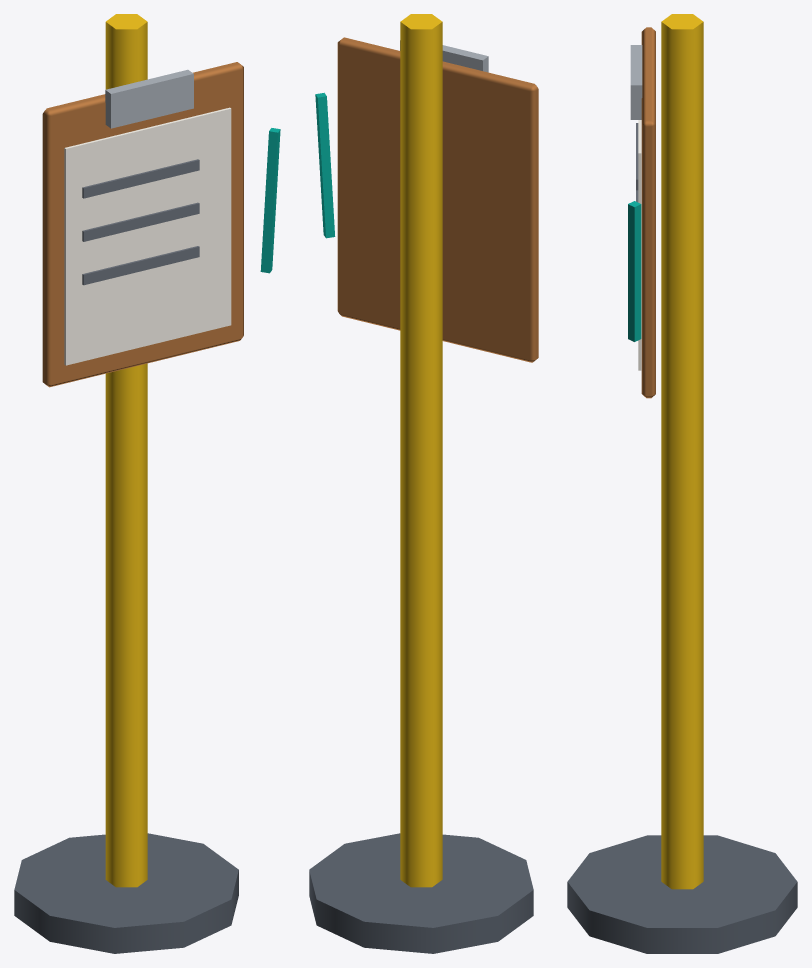
The model's file is station_buffer_ausstattung_3_0.glb.
The picture shows the model from 3 angles, left to right: view 1: azimuth 30°, elevation 25°; view 2: azimuth 150°, elevation 25°; view 3: azimuth 270°, elevation 25°; orthographic projection.
Visible parts, largest first — view 1: station_buffer_ausstattung_3_0; view 2: station_buffer_ausstattung_3_0; view 3: station_buffer_ausstattung_3_0.
Part boxes in pixels (bbox=[...]): station_buffer_ausstattung_3_0: bbox=[14, 14, 280, 953]; station_buffer_ausstattung_3_0: bbox=[309, 14, 538, 953]; station_buffer_ausstattung_3_0: bbox=[567, 14, 797, 953].
Bounding box in the file's own units: 0.277 × 1.02 × 0.24.
